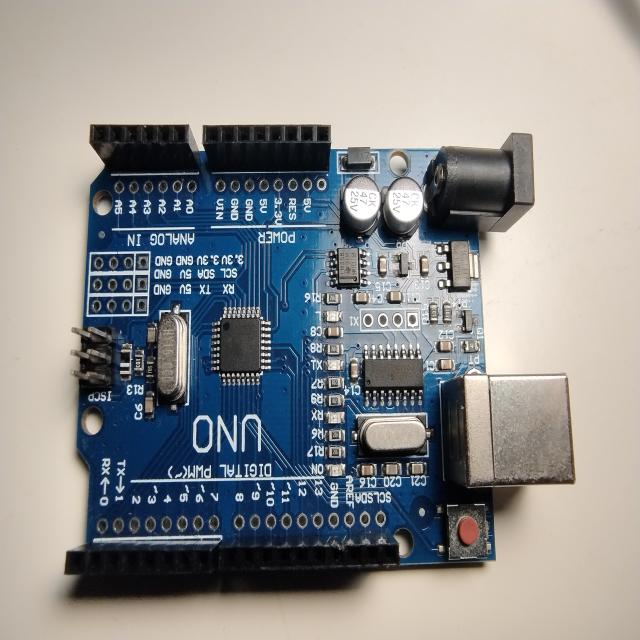arduino: (72, 114, 580, 603)
